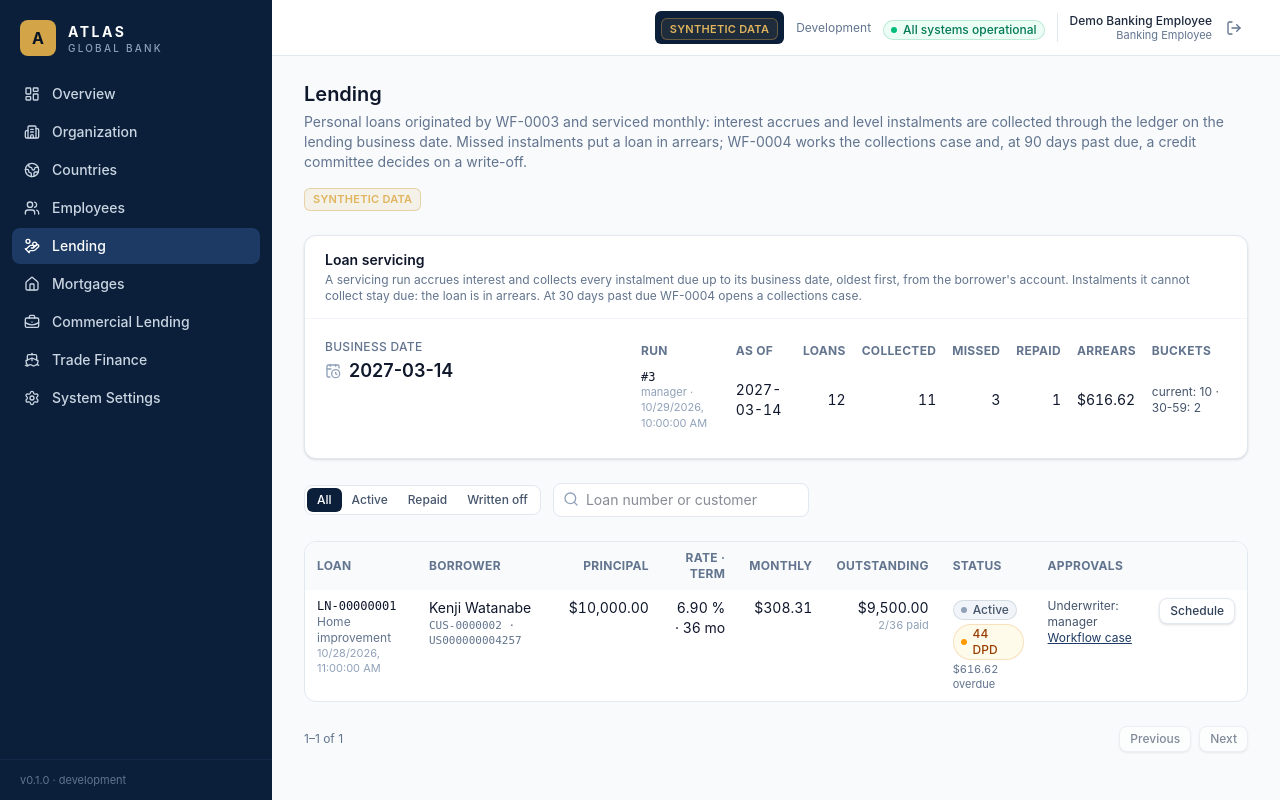
Scenario: Loan servicing › hides servicing and repayment actions without the permissions
Click the button with aria-label "Open LN-00000001": (1197, 611) [1159,598,1235,624]
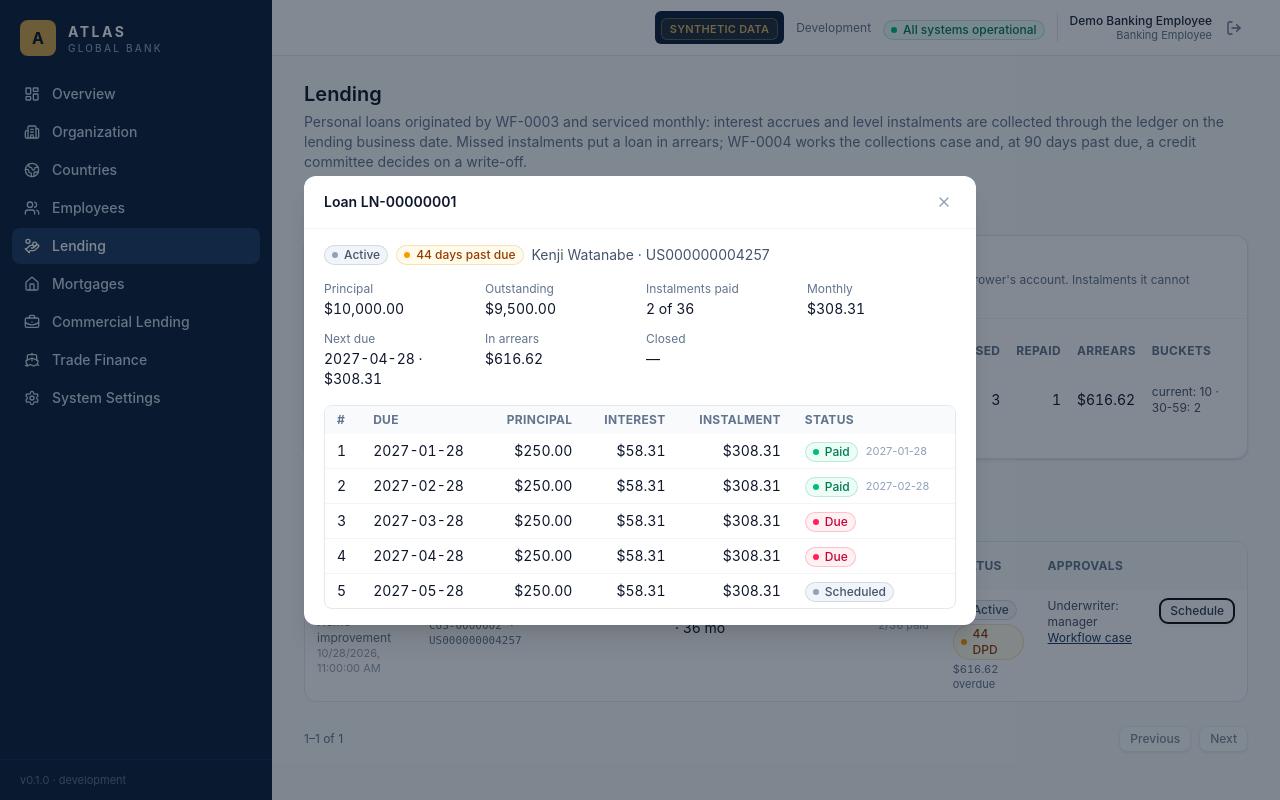
Result: the table named "Repayment schedule" is shown at [325,406,955,608]
